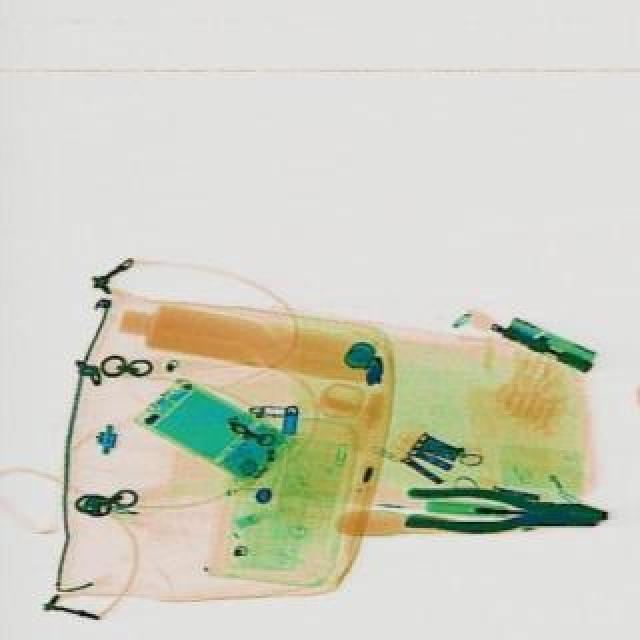wrench: (400, 482, 604, 538)
